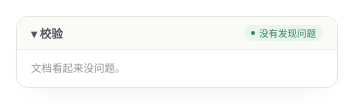
Scenario: 文档级校验面板（R4-7、FR-P6） › 面板可折叠
This screenshot has width=354, height=104.
Click the button "▾ 校验" at (134, 33), box left=31, top=25, right=236, bottom=41
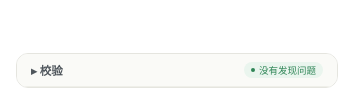
expect the text "文档看起来没问题。" is gone: met
